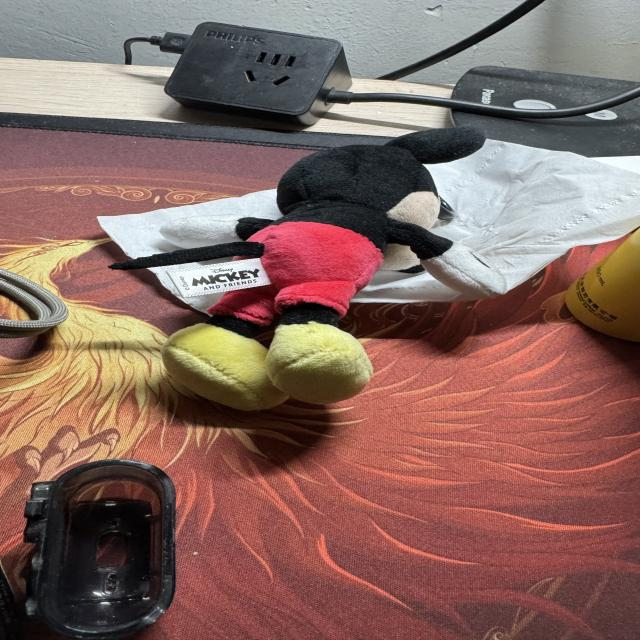mickey: (111, 128, 504, 410)
tissue: (427, 141, 639, 288)
